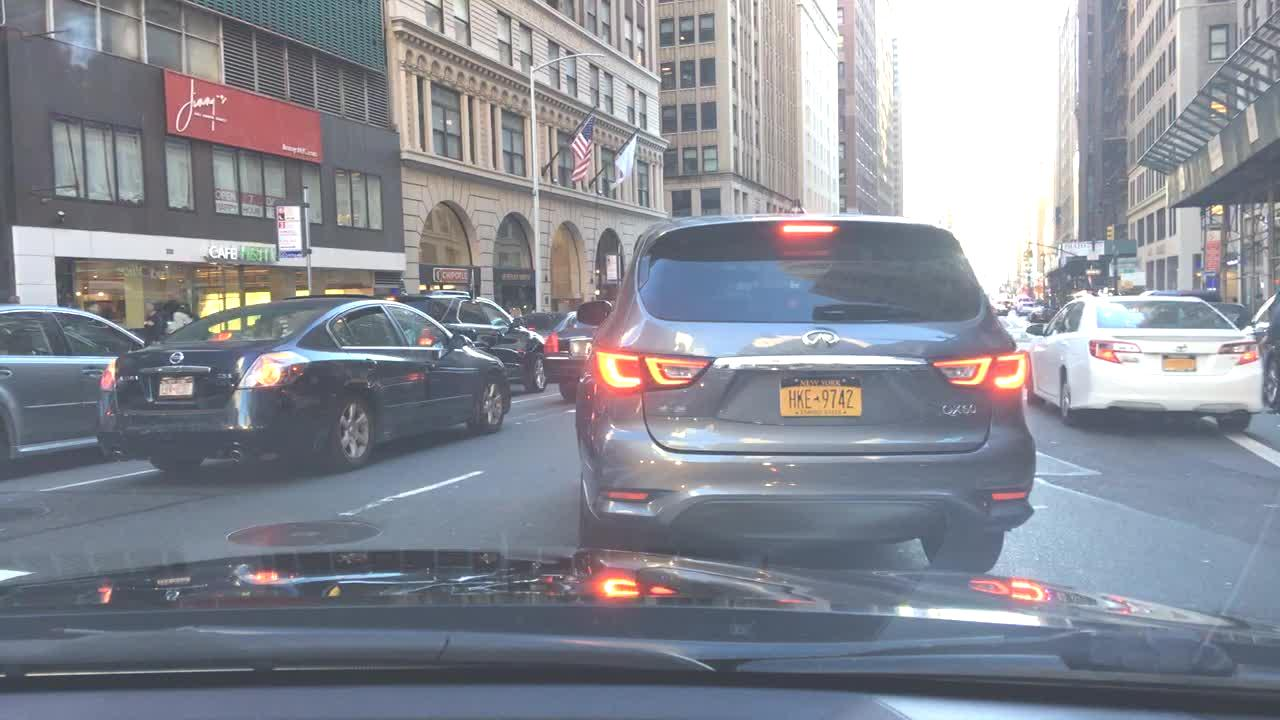Infiniti: (799, 322, 844, 356)
Nissan: (162, 348, 192, 371)
